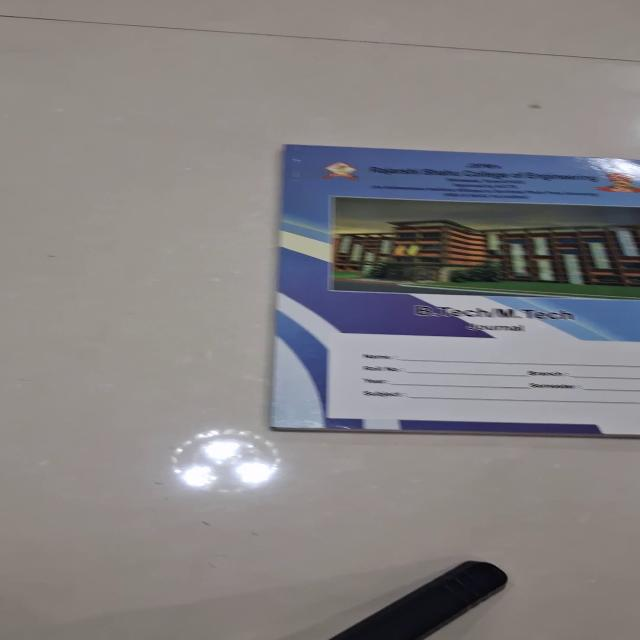paper: (268, 143, 639, 437)
